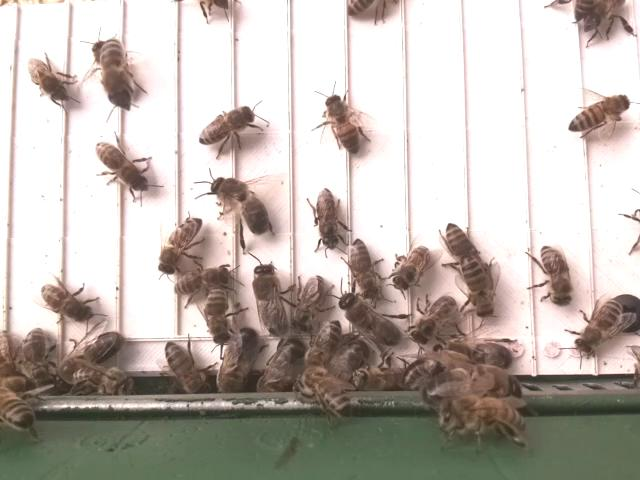Drone: (49, 328, 126, 392), (206, 174, 273, 238), (337, 290, 404, 351), (252, 260, 292, 343), (217, 324, 262, 395)
Worker: (93, 139, 152, 194), (573, 296, 623, 355), (157, 215, 204, 276), (564, 92, 632, 134), (323, 91, 364, 159), (536, 240, 575, 311), (194, 104, 257, 147), (458, 252, 496, 320), (289, 273, 329, 335), (37, 283, 95, 325), (100, 36, 133, 105), (410, 295, 456, 344), (346, 237, 382, 299), (169, 263, 236, 296), (22, 55, 69, 102), (391, 245, 433, 291), (203, 285, 233, 346), (442, 219, 478, 268), (314, 184, 340, 251)
